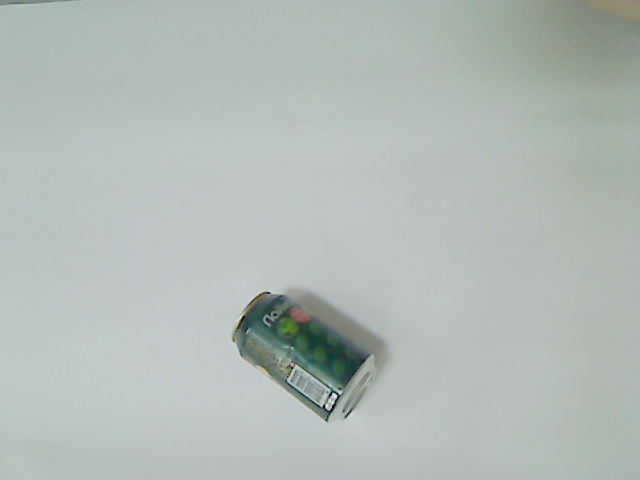can: (227, 289, 380, 425)
